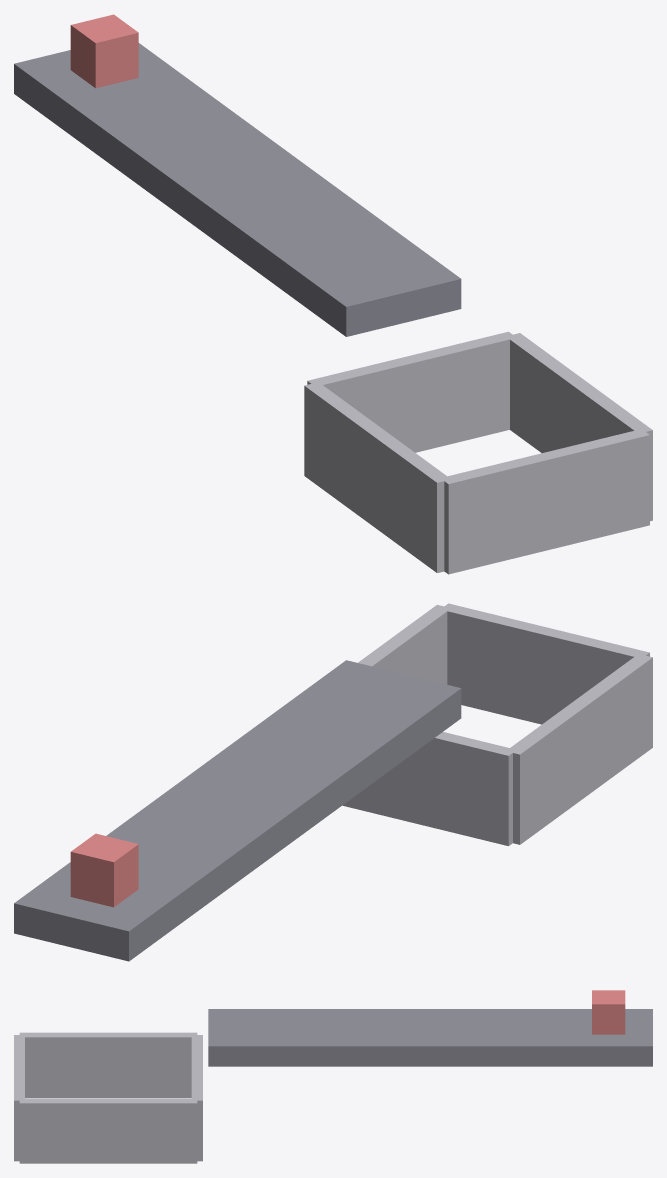
File: physics-zone-test.glb
3 views of the same model, one above another, from view 1: azimuth 30°, elevation 25°; view 2: azimuth 150°, elevation 25°; view 3: azimuth 270°, elevation 25° (orthographic). The views are drawn at different scales.
Parts seen in each view (by area): view 1: Conveyor, WallFront, WallLeft, WallBack, WallRight, PartSource; view 2: Conveyor, WallLeft, WallFront, WallBack, PartSource, WallRight; view 3: Conveyor, WallRight, WallLeft, PartSource, WallBack, WallFront.
Boxes of the visible parts, box(x1,y1,x2,y2) form: Conveyor: box(14, 43, 461, 336); WallFront: box(443, 430, 649, 574); WallLeft: box(304, 382, 450, 572); WallBack: box(307, 331, 512, 452); WallRight: box(506, 333, 652, 521); PartSource: box(70, 14, 138, 88); Conveyor: box(14, 660, 461, 961); WallLeft: box(506, 654, 652, 844); WallFront: box(441, 603, 649, 724); WallBack: box(342, 732, 512, 846); PartSource: box(70, 833, 138, 907); WallRight: box(358, 604, 450, 684); Conveyor: box(208, 1009, 652, 1066); WallRight: box(19, 1098, 197, 1163); WallLeft: box(19, 1032, 197, 1097); PartSource: box(592, 990, 625, 1034); WallBack: box(191, 1035, 202, 1161); WallFront: box(14, 1035, 24, 1161).
Bounding box in the file's own units: 0.75 × 0.65 × 2.88.
